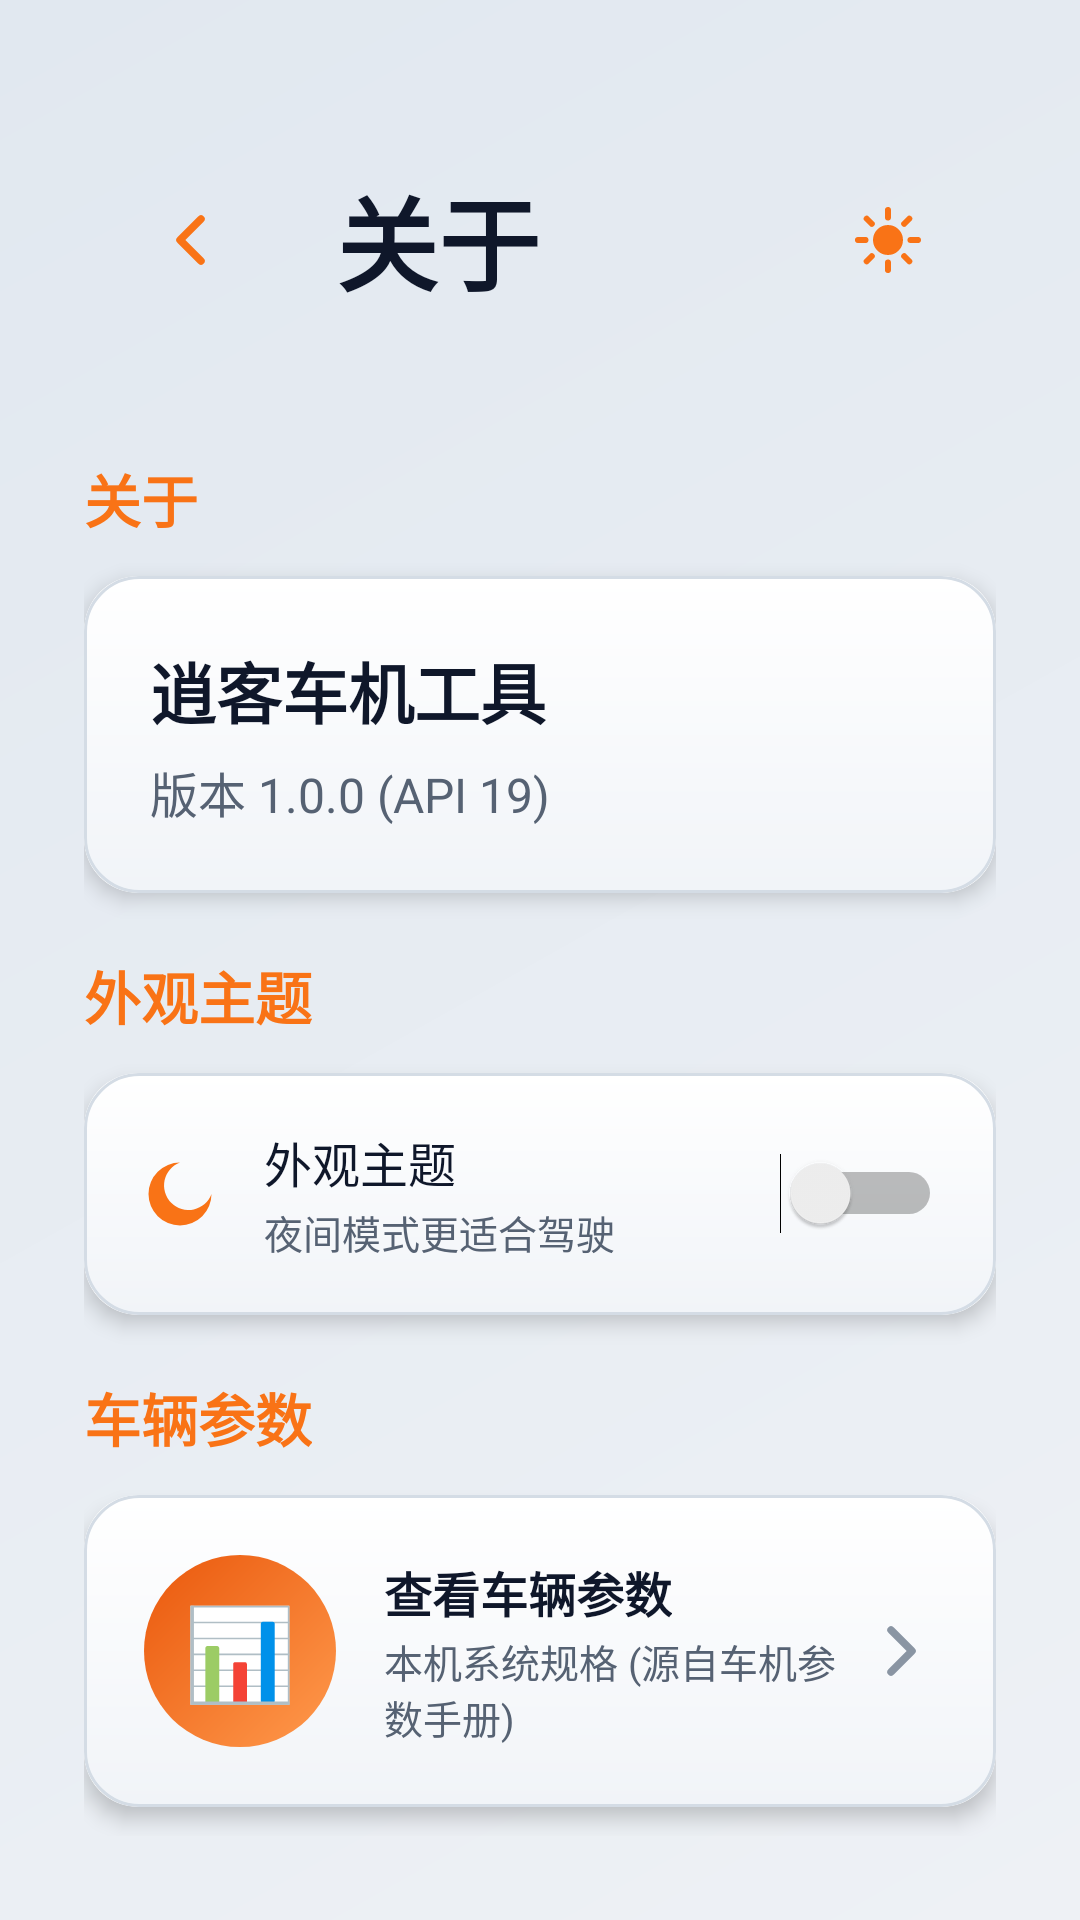

Named icons in this screenshot (1080px x 1920px) and their bounding boxes, (x1=x1, y1=y1, x2=x2, y2=y2):
moon: (x1=148, y1=1162, x2=212, y2=1226)
切换昼夜: (x1=855, y1=207, x2=921, y2=273)
返回: (x1=176, y1=215, x2=205, y2=265)
